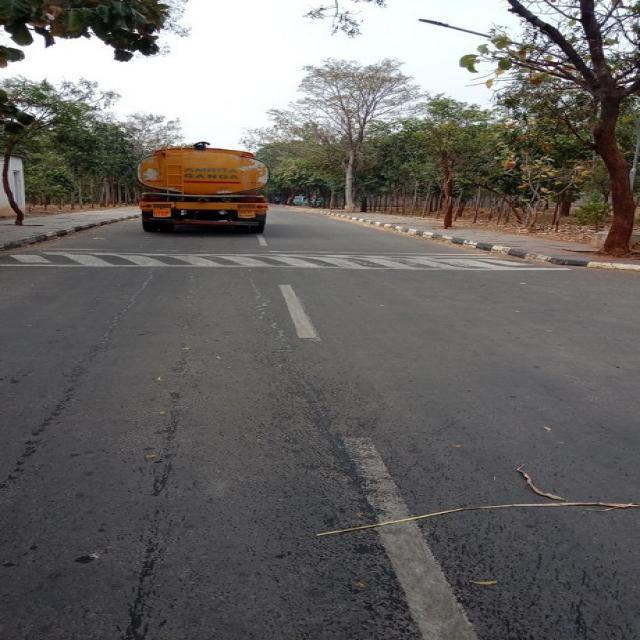crosswalk: (4, 242, 558, 287)
